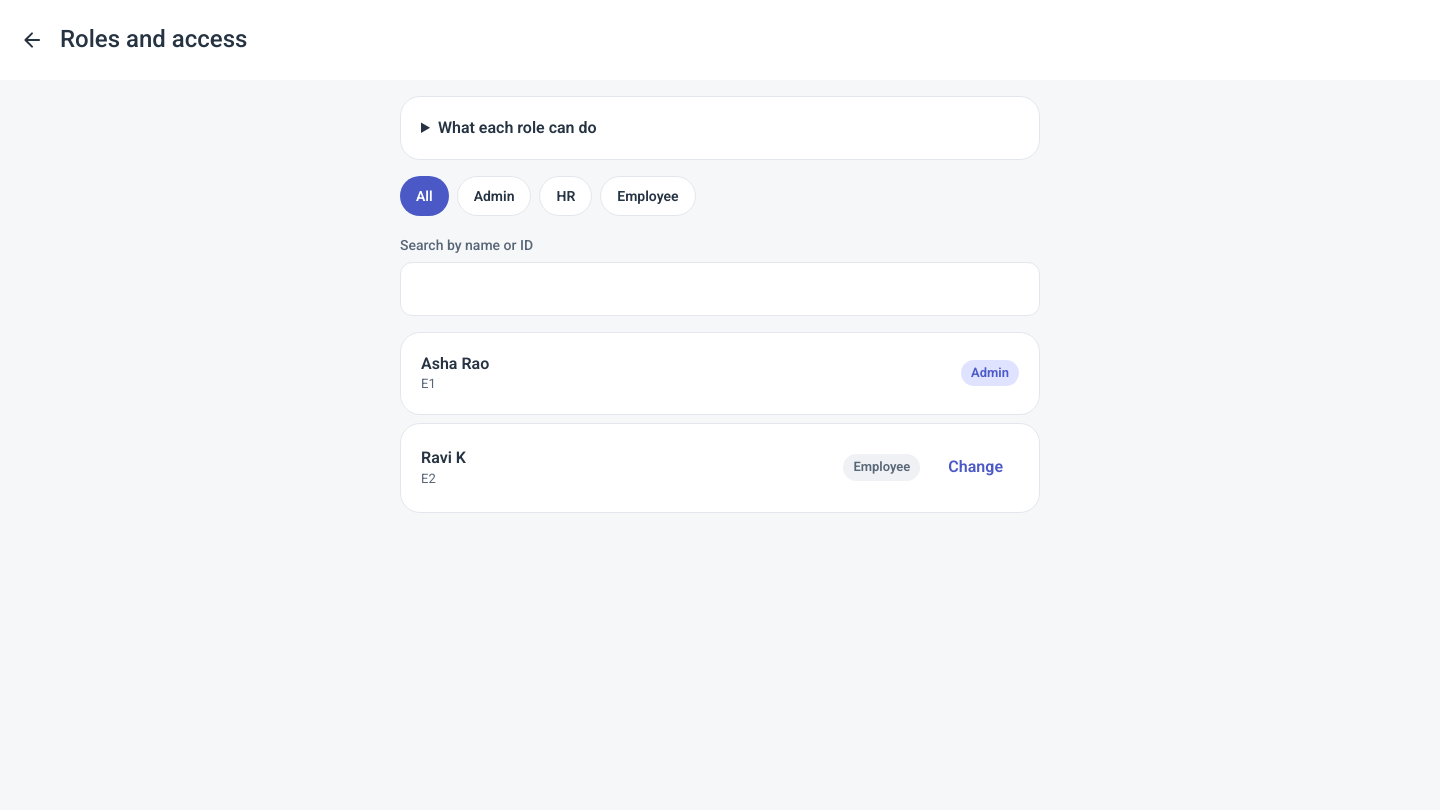
Test: Roles and step-up password › closing the password sheet cancels without changing anything
Click the button "Change": click(976, 468) x1=932 y1=444 x2=1019 y2=492
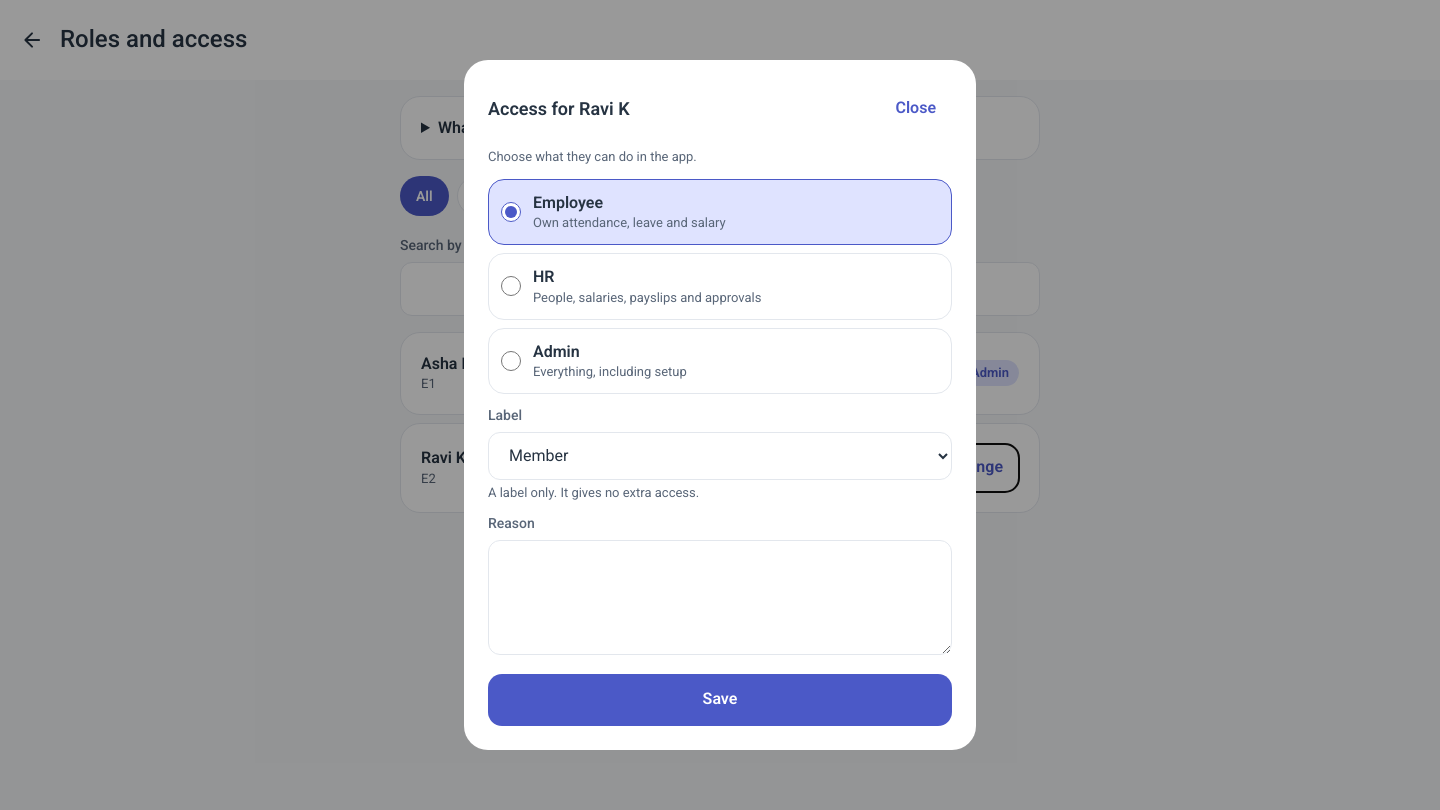
Click the radio button labelled "Admin Everything, including setup": click(511, 361) x1=501 y1=351 x2=521 y2=371
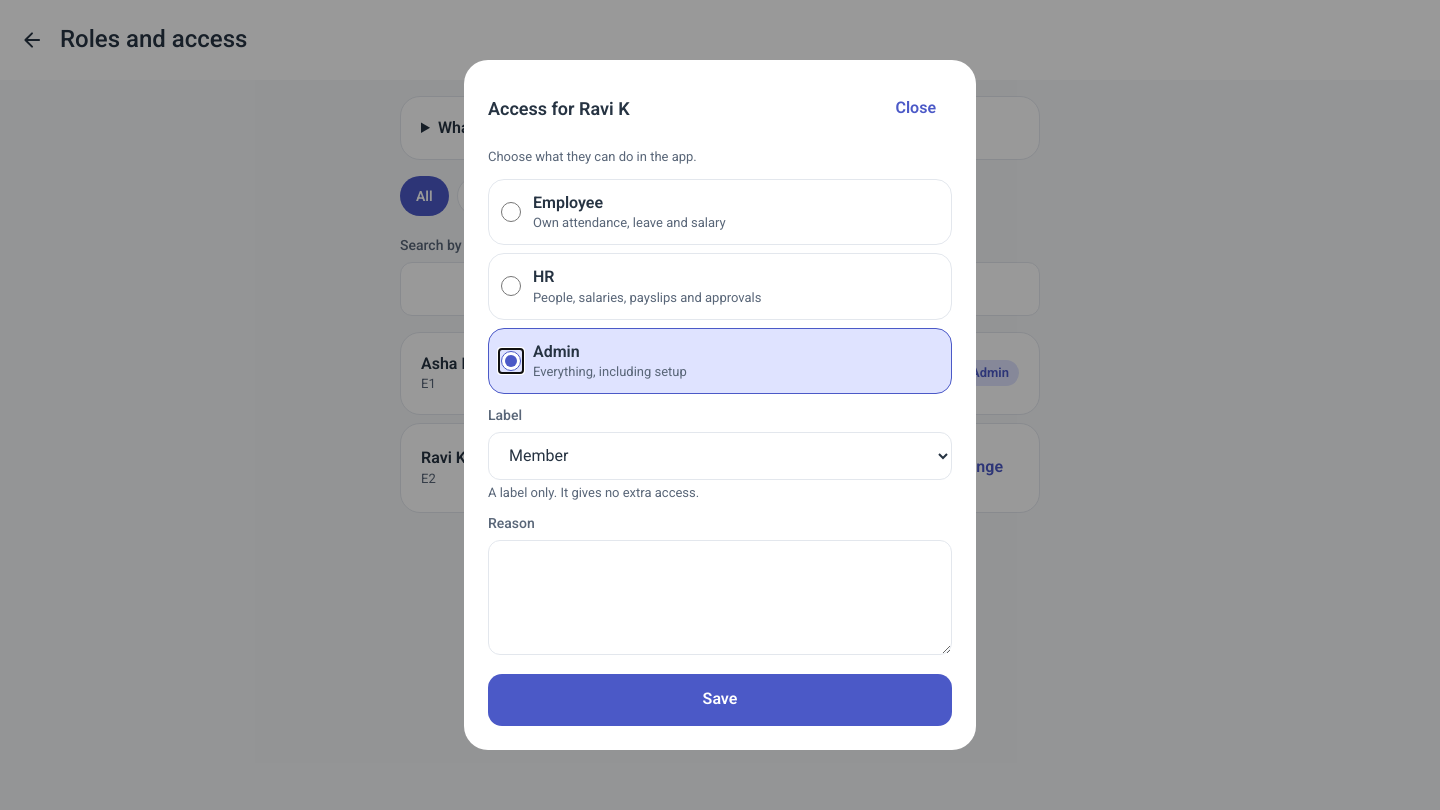
In the text box labelled "Reason": (720, 598) x1=488 y1=540 x2=952 y2=655, type "Needed"
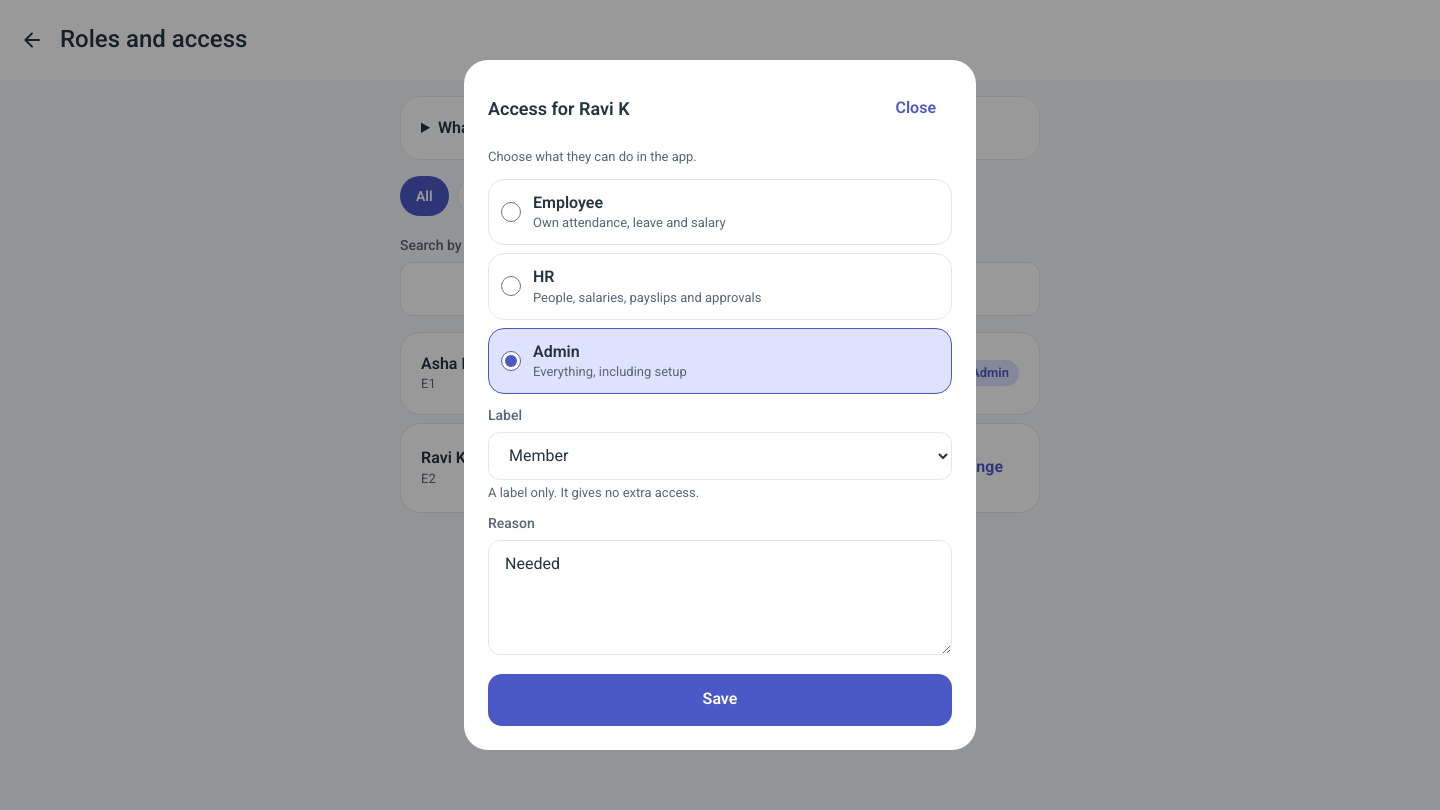
Click the button "Save": click(720, 700) x1=488 y1=674 x2=952 y2=726
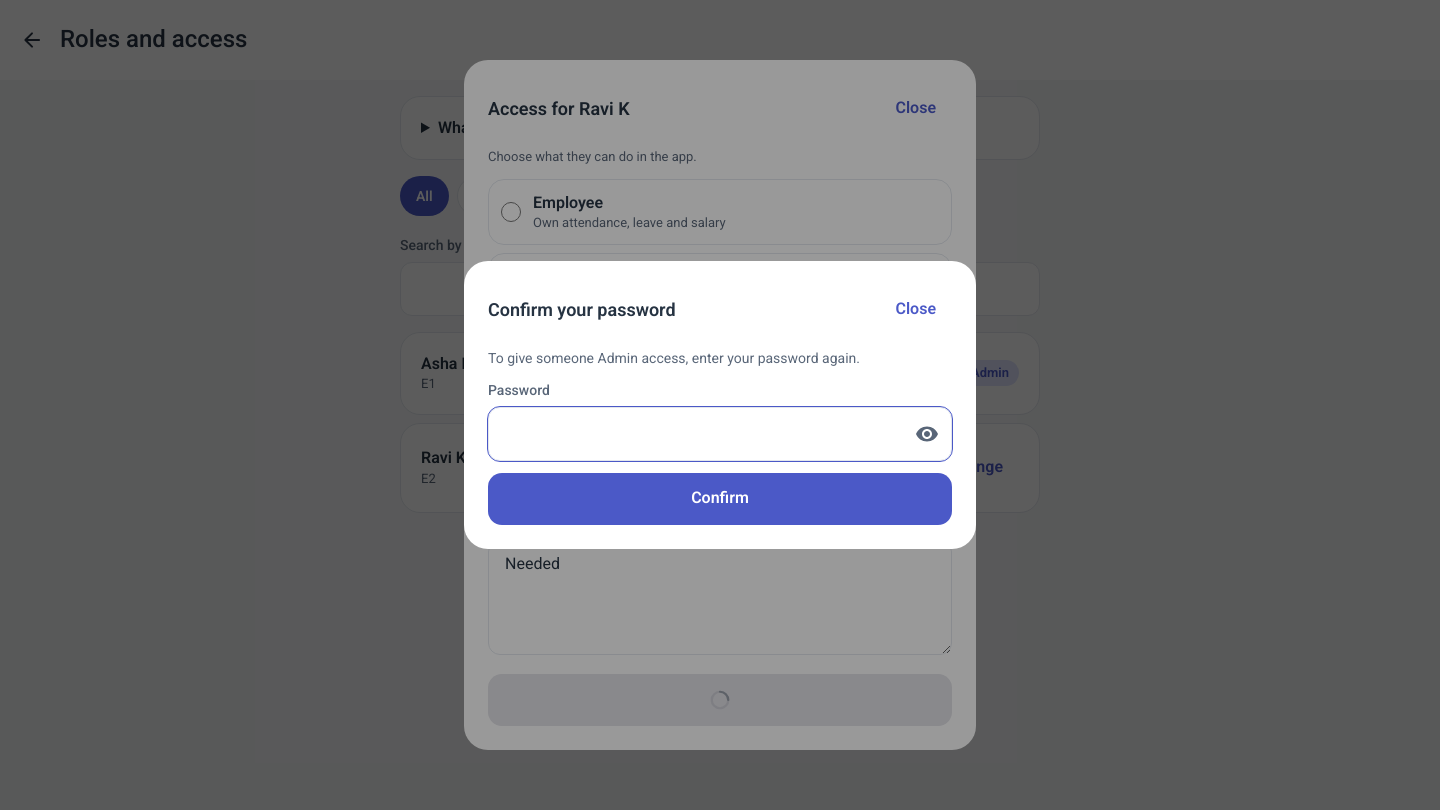
Result: the password field labelled "Password" is shown at x1=489 y1=408 x2=903 y2=460
Press Escape
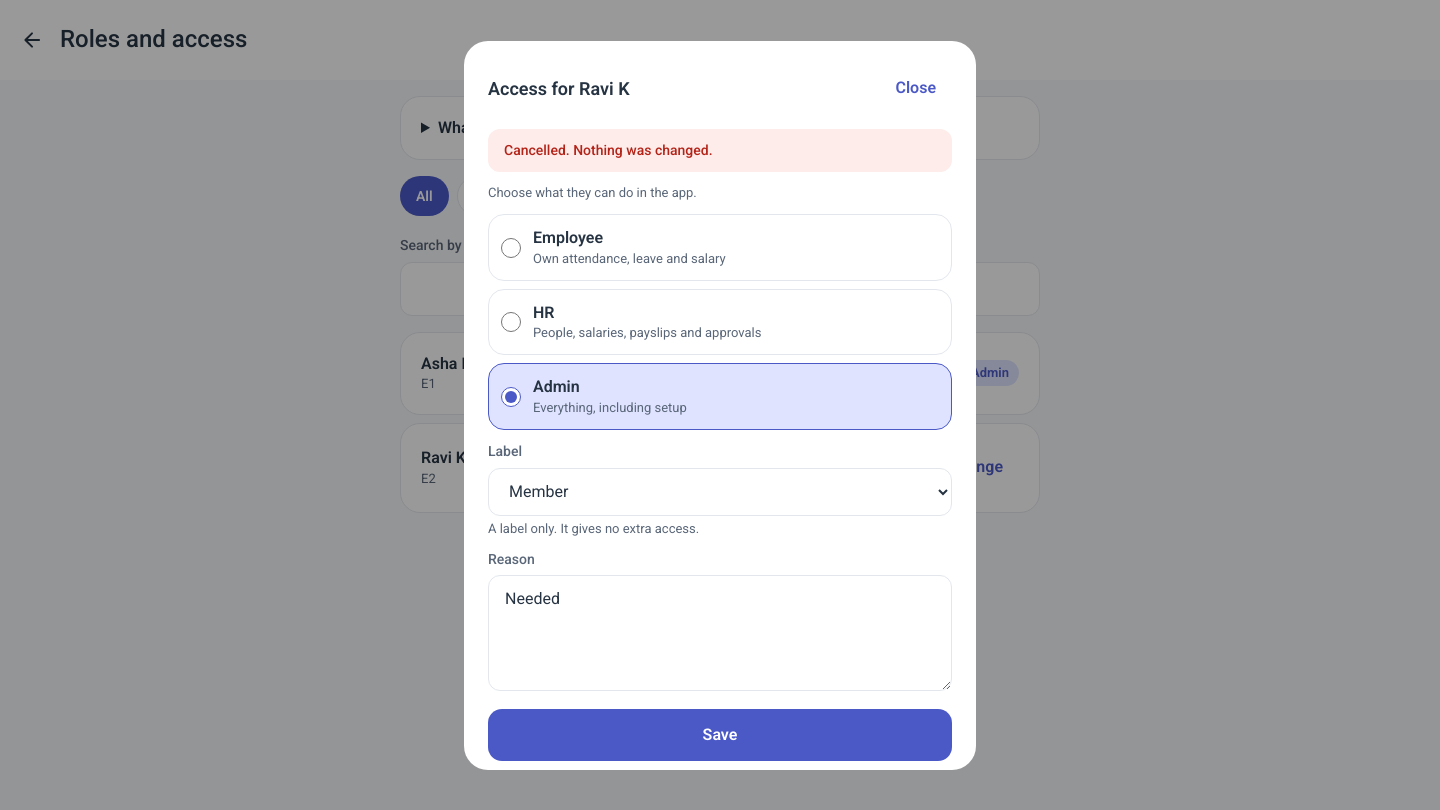
Result: the text "Cancelled. Nothing was changed." is shown at x1=488 y1=128 x2=952 y2=172
